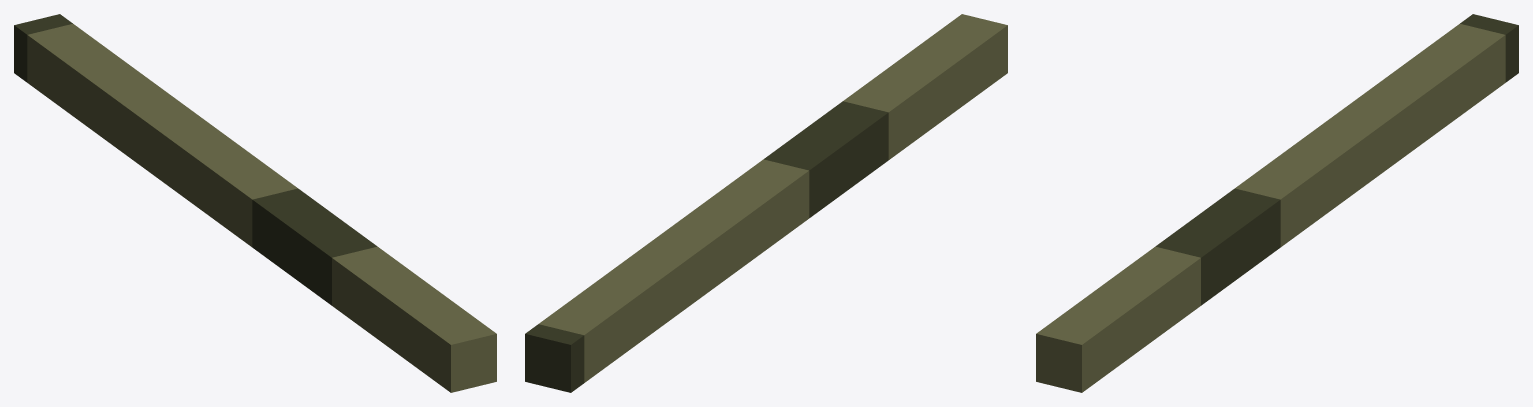
The model's file is Gun.fbx.
3 renders of one model, left to right at view 1: azimuth 30°, elevation 25°; view 2: azimuth 150°, elevation 25°; view 3: azimuth 330°, elevation 25°, orthographic.
Parts seen in each view (by area): view 1: Untitled.001; view 2: Untitled.001; view 3: Untitled.001.
Boxes of the visible parts, x1,y1,x2,y2 form: Untitled.001: (14, 14, 496, 392); Untitled.001: (525, 14, 1007, 392); Untitled.001: (1036, 14, 1518, 392).
Size of the model in its own units: 20 by 20 by 330.
Materials: 1 (1 with a texture image).
